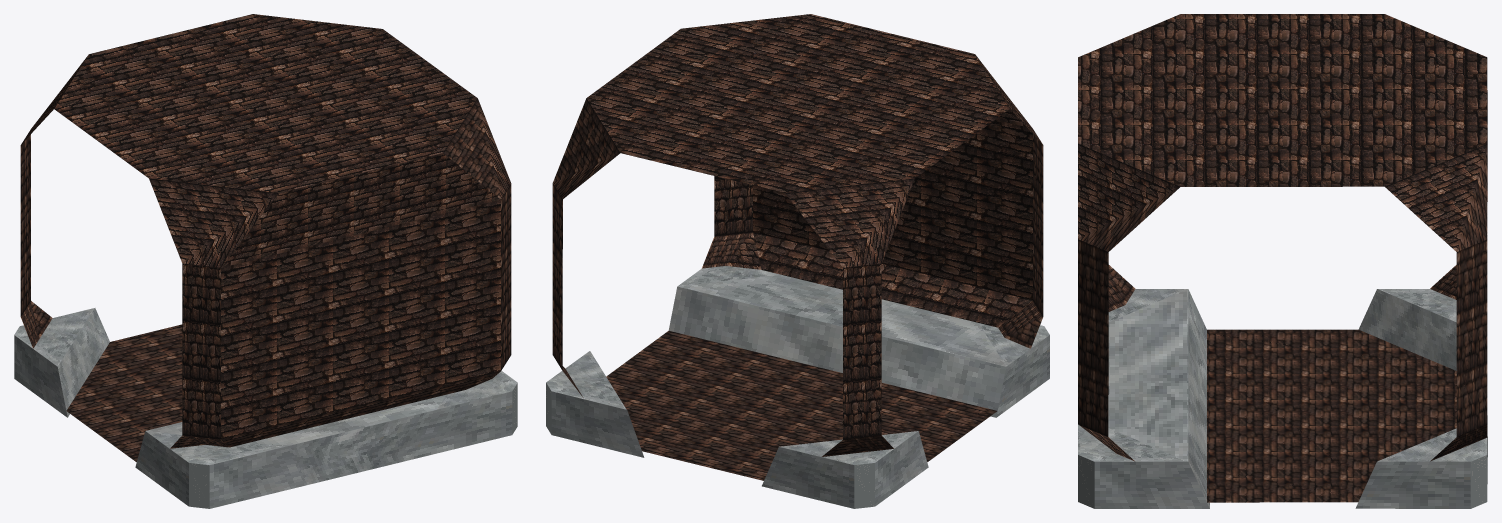
The model's file is Pipe4.glb.
3 renders of one model, left to right at view 1: azimuth 30°, elevation 25°; view 2: azimuth 150°, elevation 25°; view 3: azimuth 270°, elevation 25°, orthographic. The views are drawn at different scales.
Parts seen in each view (by area): view 1: Plane.004; view 2: Plane.004; view 3: Plane.004.
Part boxes in pixels (x1=…): Plane.004: x1=14, y1=14, x2=517, y2=508; Plane.004: x1=546, y1=14, x2=1049, y2=508; Plane.004: x1=1078, y1=14, x2=1487, y2=508.
Size of the model in its own units: 4 by 3.47 by 4.01.
2 materials, 2 textured.
